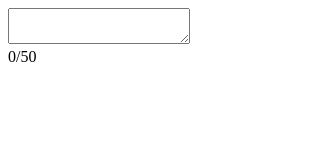
Test case: TextArea › should update character count when typing
In the text box: {"x": 99, "y": 26} [8,8,190,44], type "Hello"
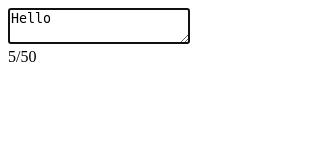
Check: the text "5/50" is shown, box [8,48,36,65]
